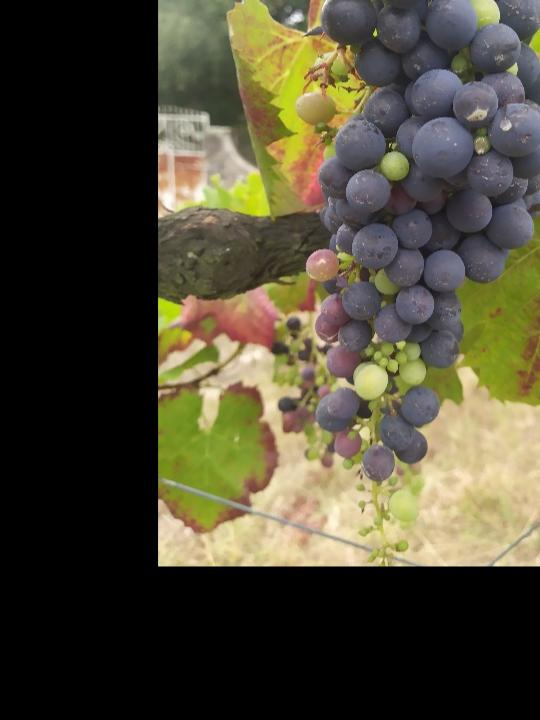grape: (298, 0, 540, 566)
